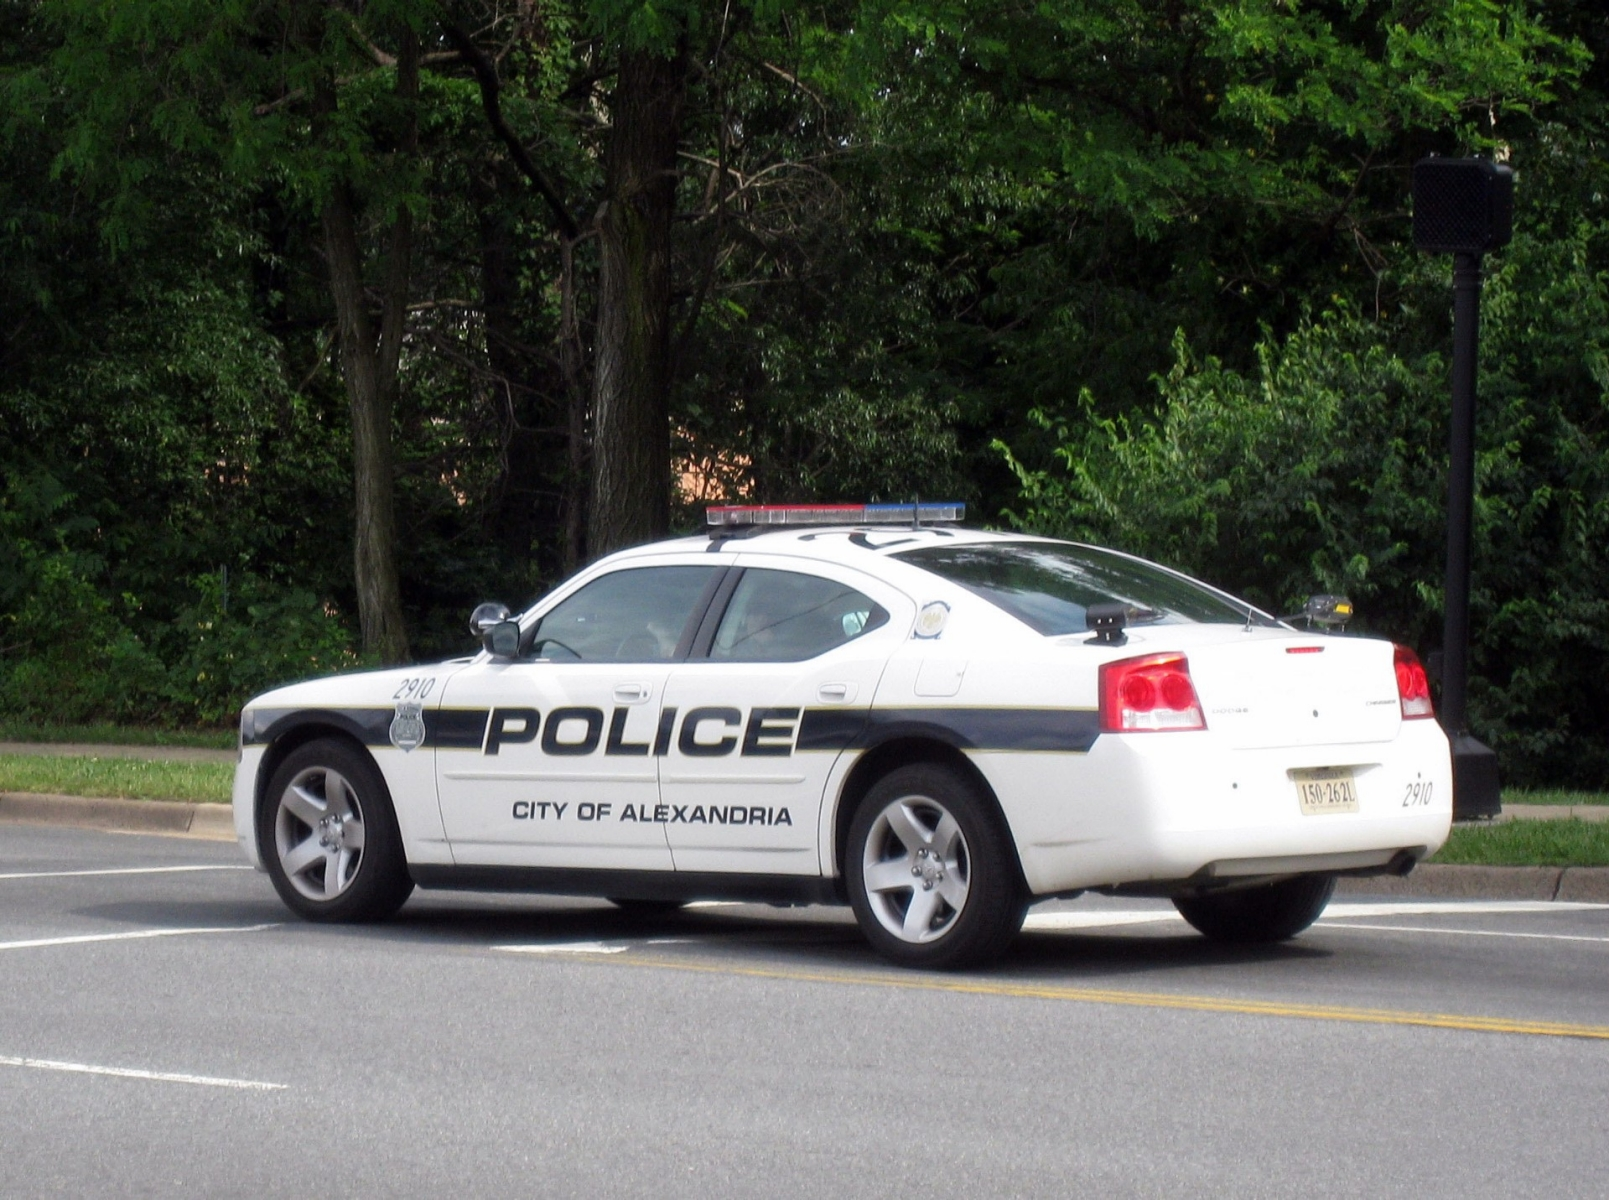license plate: (1288, 759, 1367, 816)
